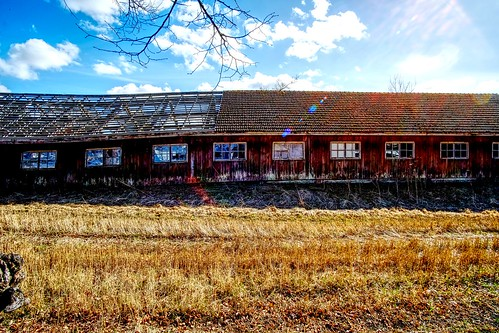building: (3, 91, 492, 181)
grass: (1, 208, 493, 333)
sky: (7, 1, 499, 89)
